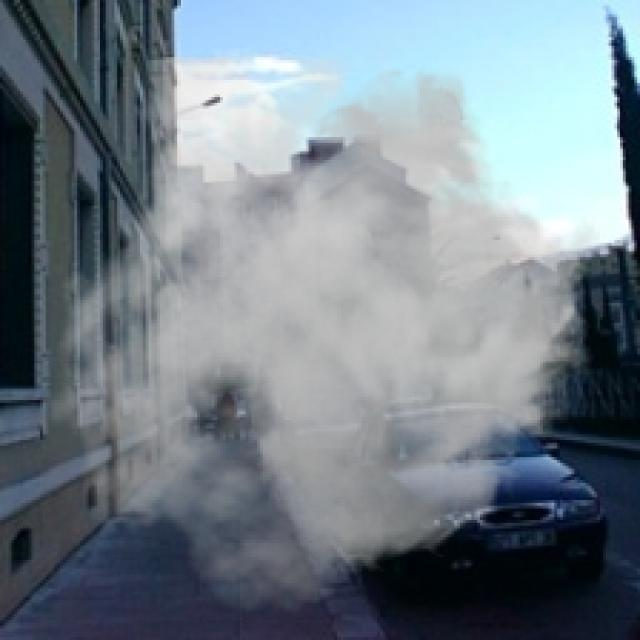smoke: (43, 57, 603, 614)
